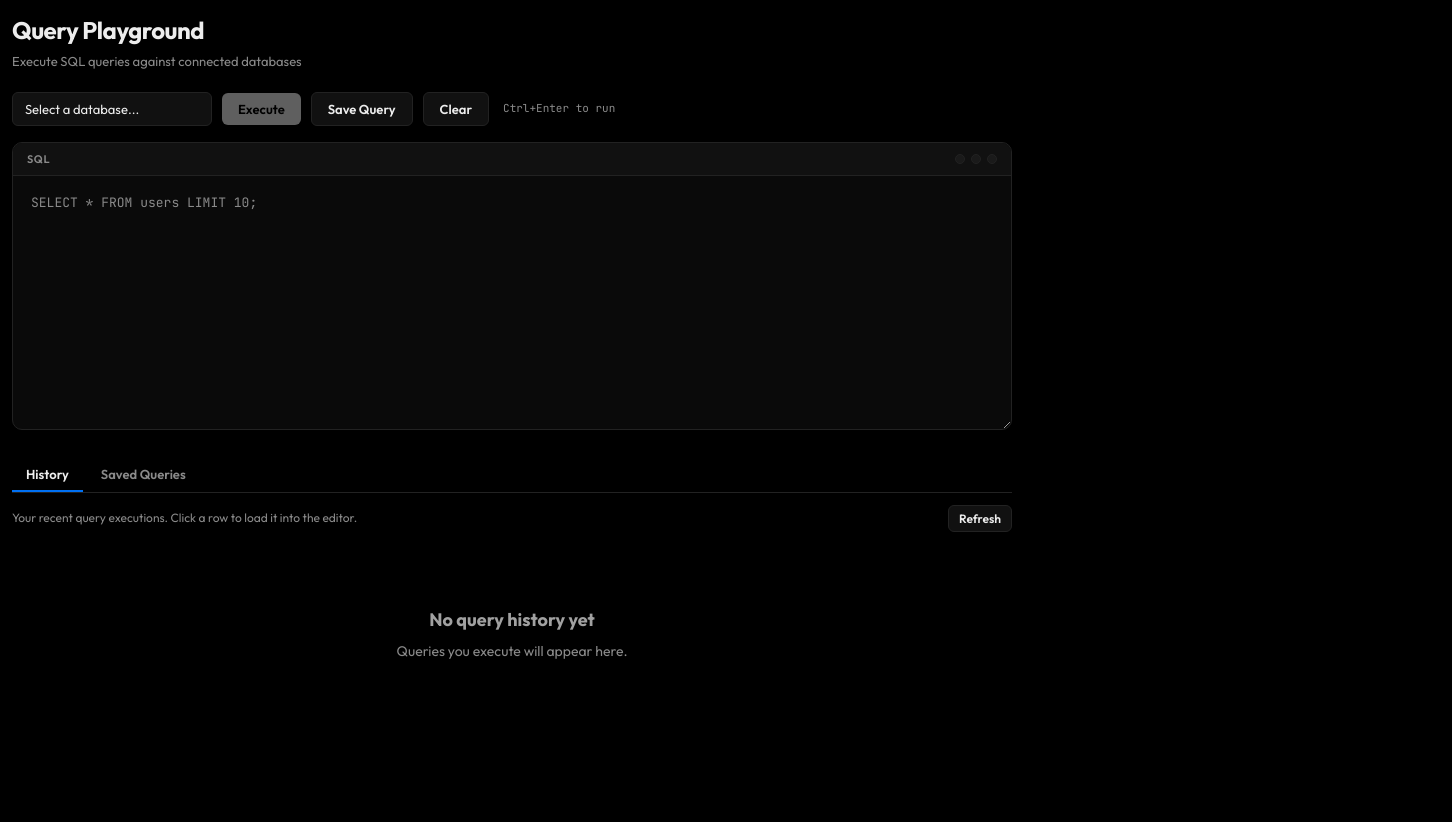
Test: QueryPlayground › announces truncated query results as an alert
Select "test-db" in the dropdown at (112, 108), box [12,92,212,126]
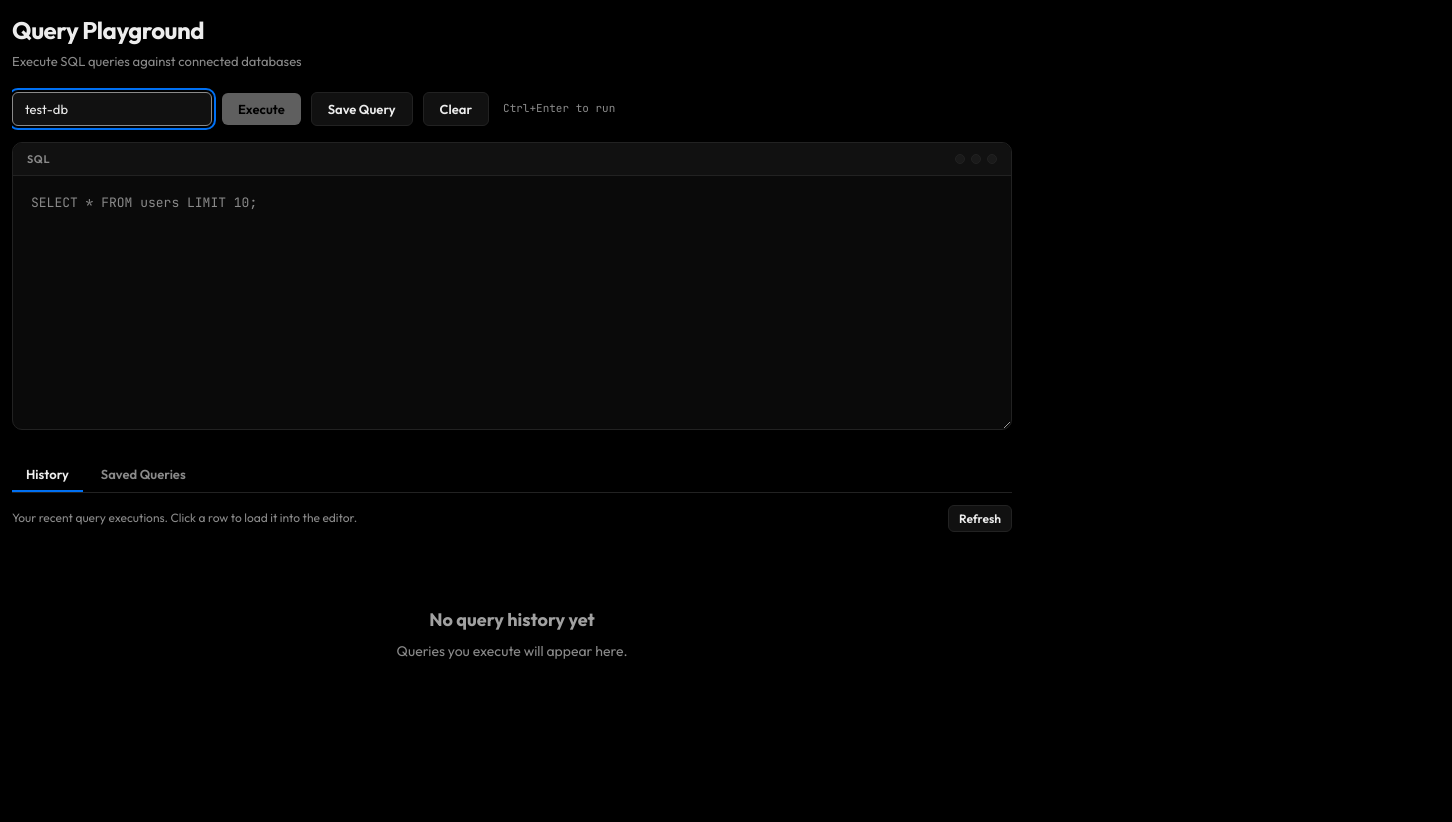
Type "SELECT * FROM users" into the text box named "SQL editor" at (512, 302), box [13,176,1011,429]
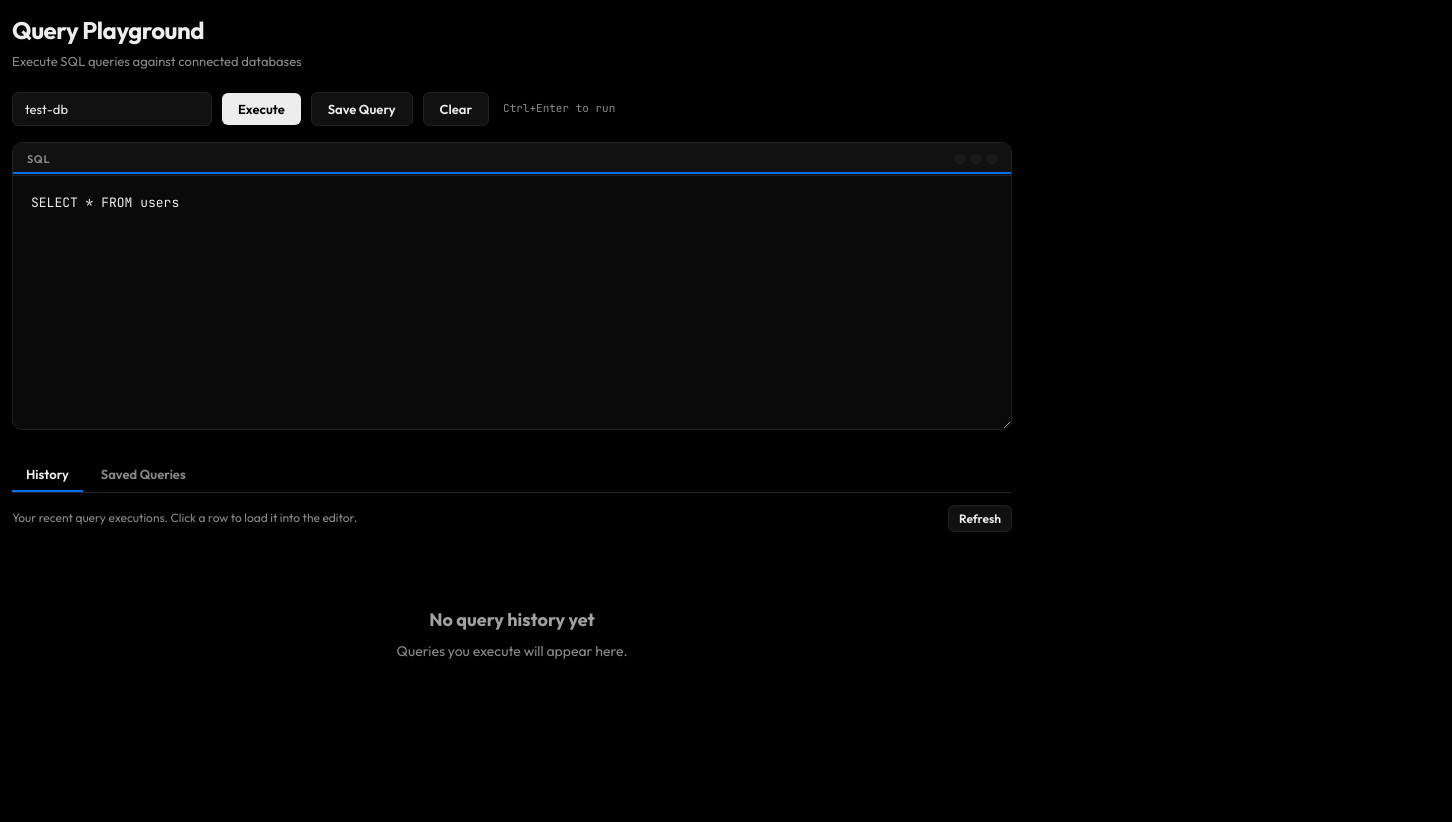
Click the button "Execute" at (261, 108), box [222,92,301,124]
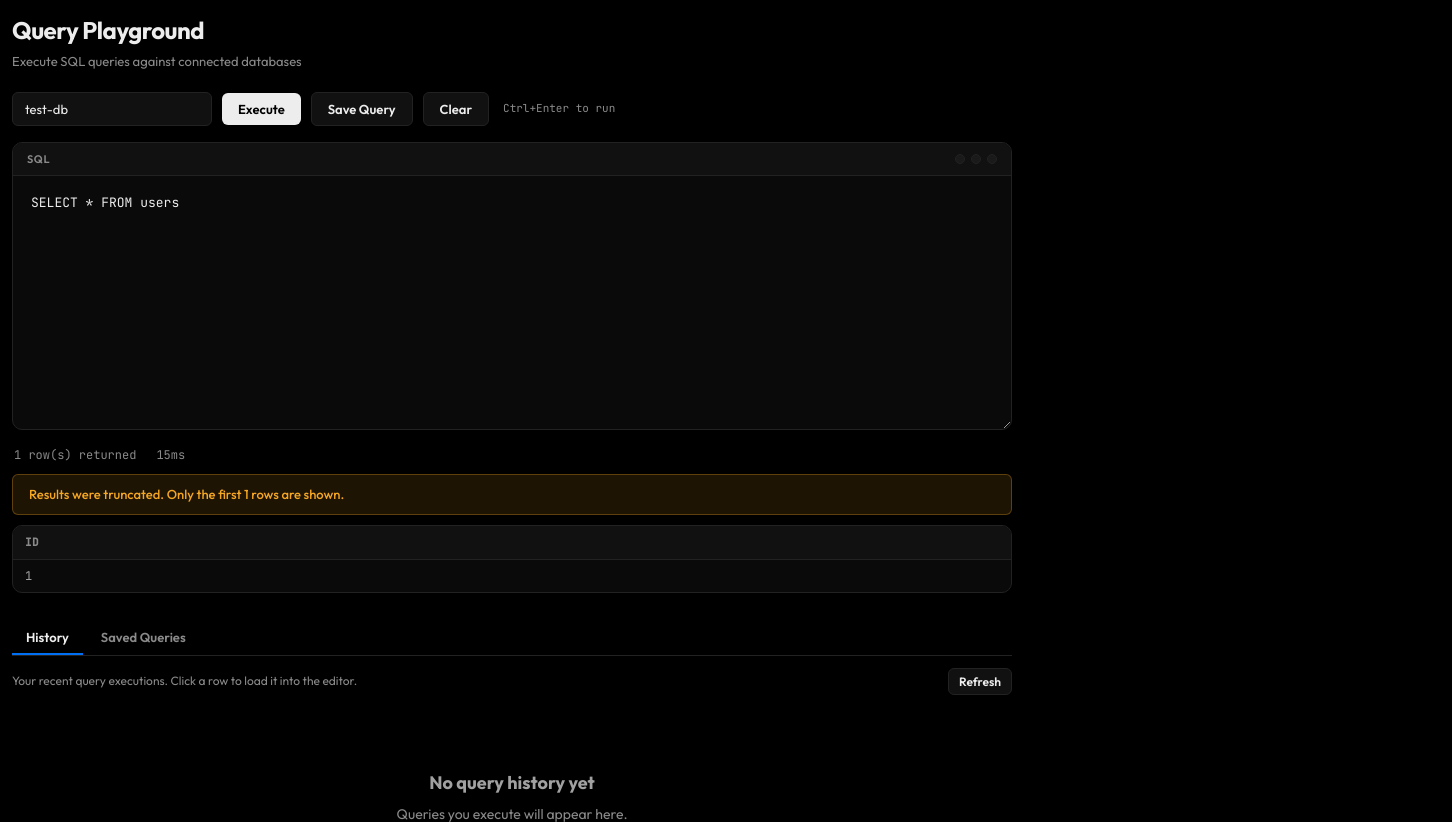
Expected: the message "Results were truncated. Only the first 1 rows are shown." is shown, [12,474,1012,515]
